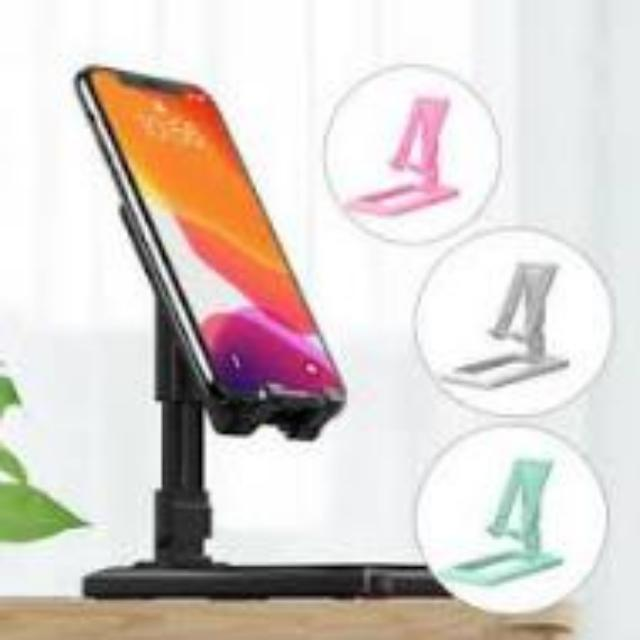PhoneUse: (71, 61, 347, 411)
